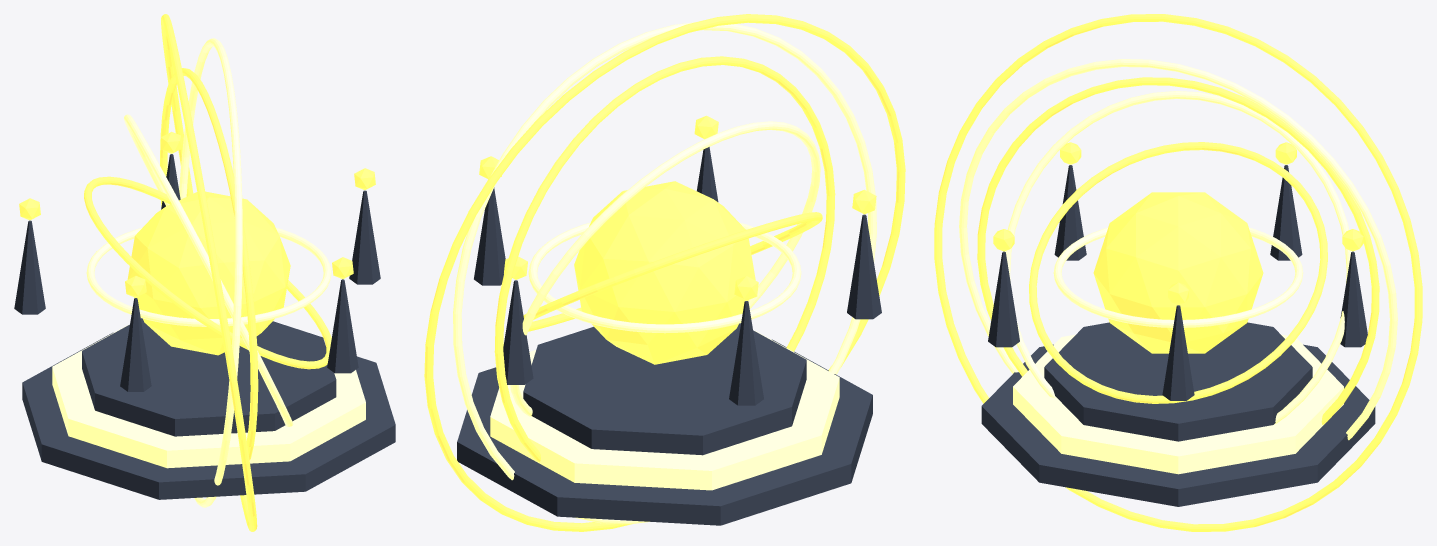
File: gpu-blender-v31.glb
The picture shows the model from 3 angles, left to right: view 1: azimuth 30°, elevation 25°; view 2: azimuth 150°, elevation 25°; view 3: azimuth 270°, elevation 25°; orthographic projection. The views are drawn at different scales.
Visible parts, largest first — view 1: Cylinder.002, Cylinder, SovereignCore_zothos-lite, Cylinder.001, Torus.005, Torus.004, Torus.001, Torus.003, Torus, Torus.002, Cone.004, Cone.002 (+2 smaller); view 2: Cylinder.002, SovereignCore_zothos-lite, Cylinder, Cylinder.001, Torus.005, Torus.003, Torus.004, Torus.002, Torus, Torus.001, Cone.003, Cone.002 (+3 smaller); view 3: SovereignCore_zothos-lite, Cylinder.002, Cylinder, Cylinder.001, Torus.005, Torus.004, Torus.001, Torus.003, Torus.002, Torus, Cone.004, Cone (+3 smaller).
Boxes of the visible parts, x1,y1,x2,y2 form: Cylinder.002: (82, 318, 336, 436); Cylinder: (22, 332, 395, 499); SovereignCore_zothos-lite: (127, 191, 290, 355); Cylinder.001: (52, 325, 365, 468); Torus.005: (161, 14, 257, 531); Torus.004: (179, 38, 242, 507); Torus.001: (84, 176, 331, 369); Torus.003: (160, 68, 258, 459); Torus: (86, 227, 331, 326); Torus.002: (124, 114, 293, 426); Cone.004: (327, 279, 358, 373); Cone.002: (14, 220, 45, 314); Cylinder.002: (523, 323, 806, 455); SovereignCore_zothos-lite: (574, 181, 755, 364); Cylinder: (457, 339, 872, 525); Cylinder.001: (490, 330, 839, 490); Torus.005: (424, 14, 905, 531); Torus.003: (494, 56, 835, 461); Torus.004: (453, 22, 876, 524); Torus.002: (510, 121, 820, 416); Torus: (528, 222, 801, 333); Torus.001: (523, 212, 822, 331); Cone.003: (847, 214, 881, 319); Cone.002: (729, 301, 763, 405); SovereignCore_zothos-lite: (1093, 192, 1263, 353); Cylinder.002: (1044, 322, 1312, 441); Cylinder: (981, 344, 1375, 506); Cylinder.001: (1013, 334, 1343, 474); Torus.005: (934, 14, 1422, 531); Torus.004: (959, 59, 1397, 440); Torus.001: (1029, 142, 1327, 403); Torus.003: (977, 77, 1379, 424); Torus.002: (1004, 91, 1352, 423); Torus: (1053, 227, 1303, 327); Cone.004: (988, 251, 1019, 347); Cone: (1162, 305, 1194, 400).
Size of the model in its own units: 4.41 by 5.93 by 5.46.
